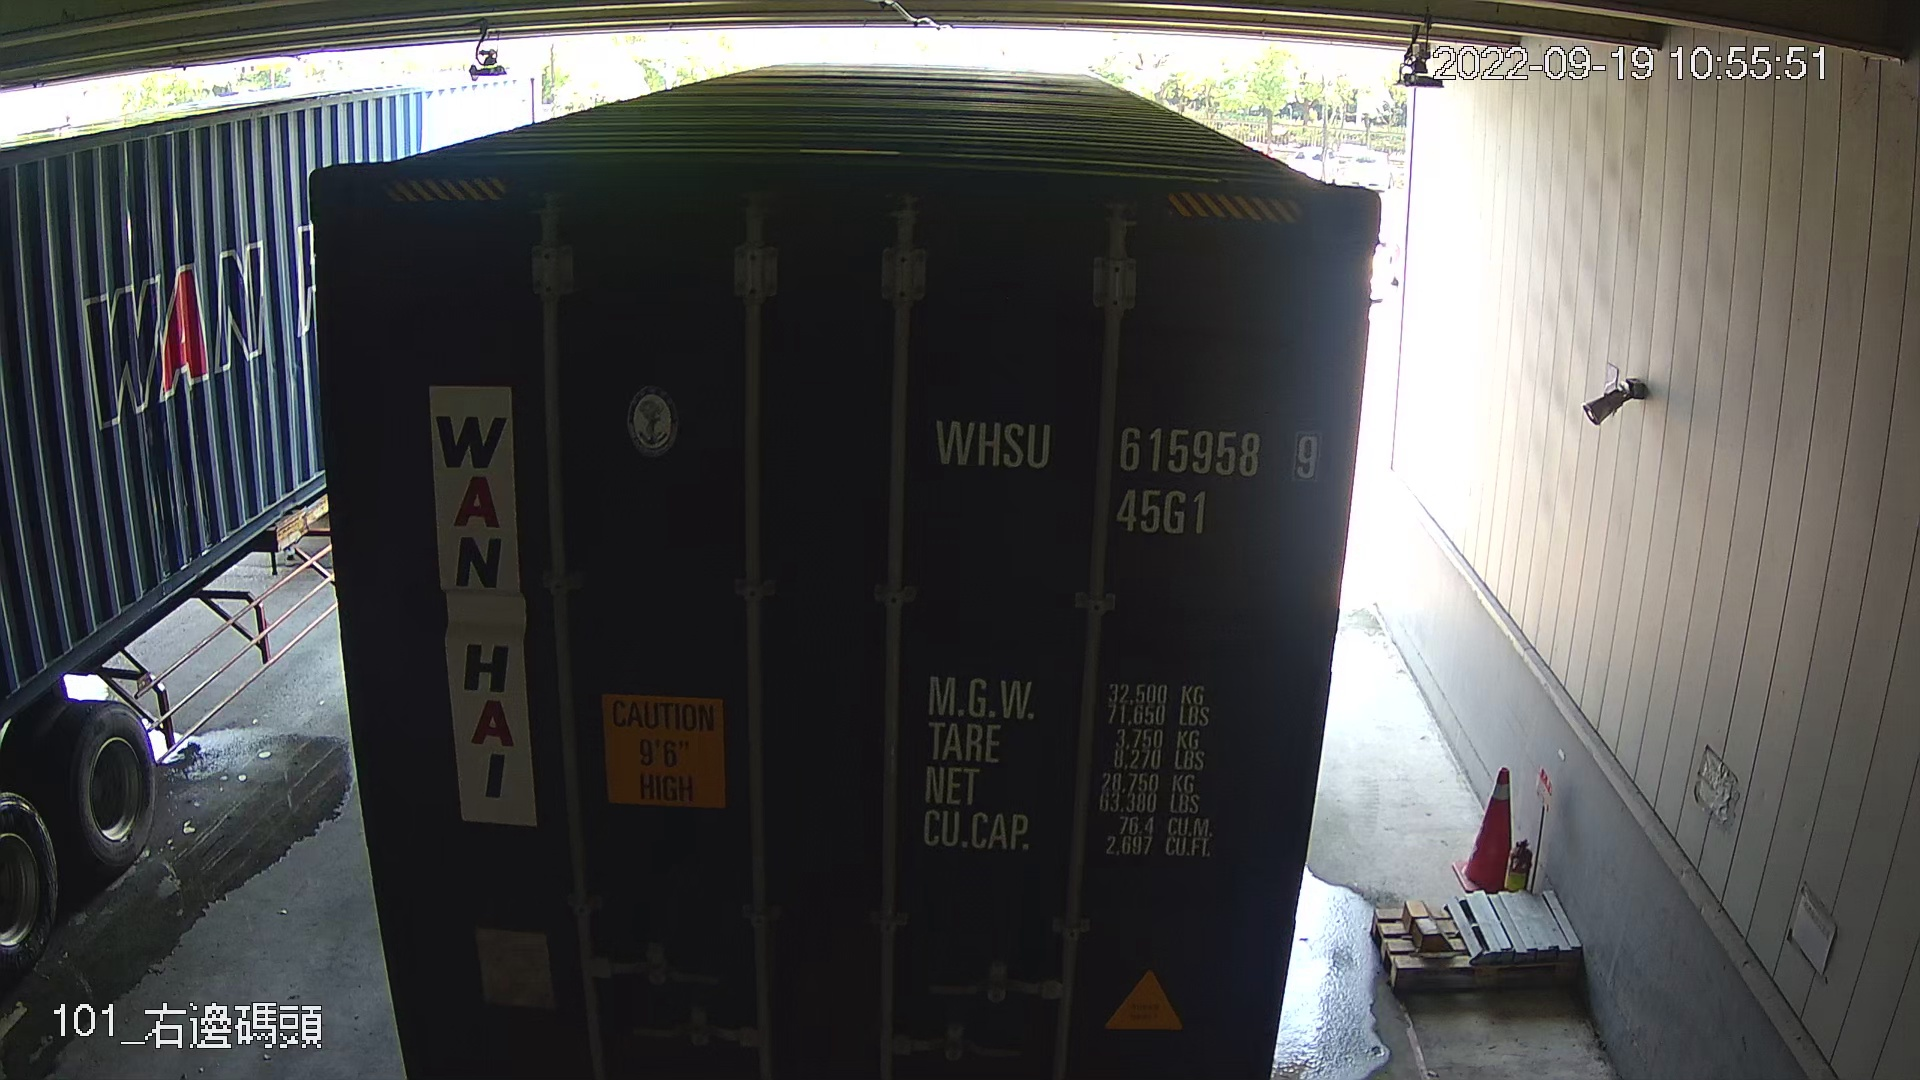container: (926, 401, 1329, 553)
